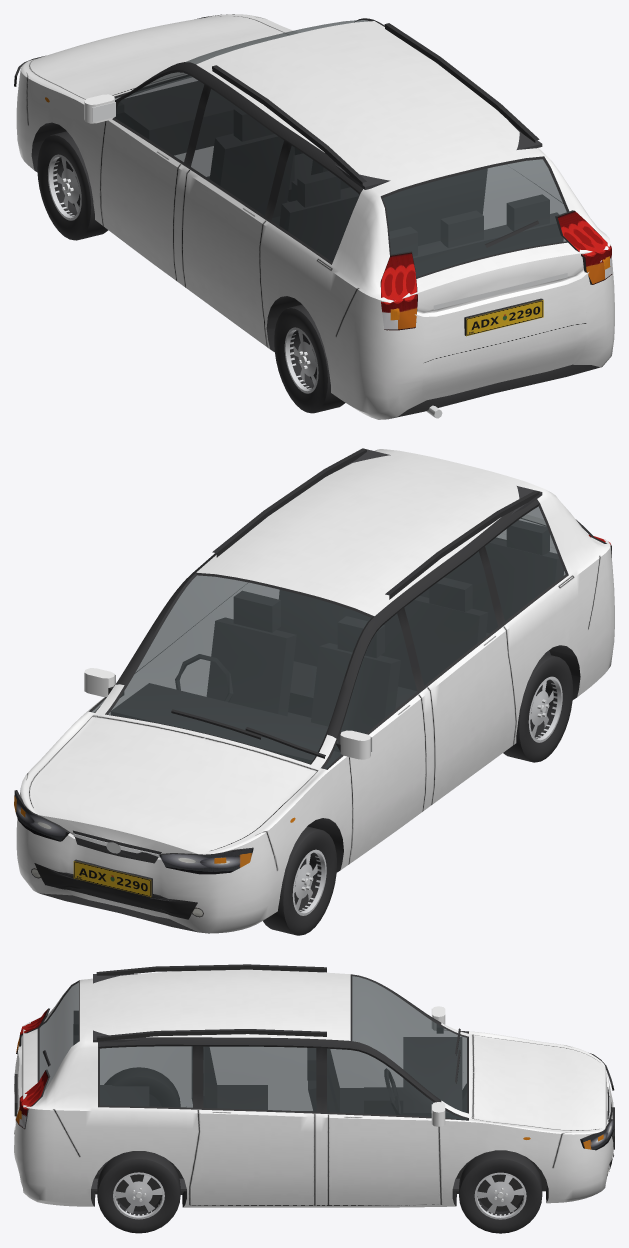
The model's file is wagon_wish.glb.
3 renders of one model, top to bottom at view 1: azimuth 30°, elevation 25°; view 2: azimuth 150°, elevation 25°; view 3: azimuth 270°, elevation 25°, orthographic. The views are drawn at different scales.
Visible parts, largest first — view 1: body, wheel_fl_mesh, wheel_rl_mesh; view 2: body, wheel_fl_mesh, wheel_rl_mesh; view 3: body, wheel_fr_mesh, wheel_rr_mesh, wheel_rl_mesh.
Part boxes in pixels (box(x1,y1,x2,y2)): body: box(14, 14, 614, 419); wheel_fl_mesh: box(37, 131, 108, 240); wheel_rl_mesh: box(274, 304, 345, 413); body: box(14, 448, 614, 933); wheel_fl_mesh: box(263, 826, 336, 935); wheel_rl_mesh: box(503, 653, 572, 762); body: box(14, 964, 614, 1207); wheel_fr_mesh: box(459, 1150, 542, 1233); wheel_rr_mesh: box(97, 1151, 180, 1233); wheel_rl_mesh: box(104, 1067, 180, 1106).
Size of the model in its own units: 1.91 by 1.6 by 4.57.
11 materials, 5 textured.
